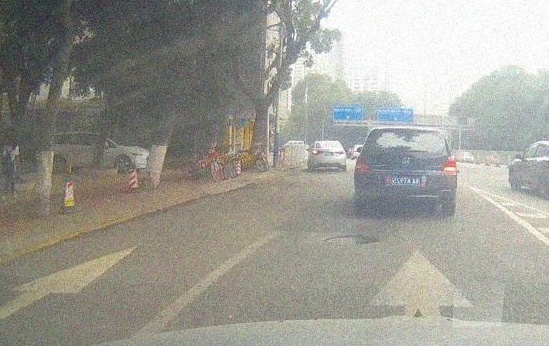L_light: (355, 156, 369, 173), (312, 151, 320, 155)
R_light: (442, 156, 456, 174), (338, 150, 346, 154)
T_light: (400, 129, 412, 132), (325, 142, 330, 144)
day-left: (311, 140, 346, 171)
day-right: (354, 126, 457, 215)
